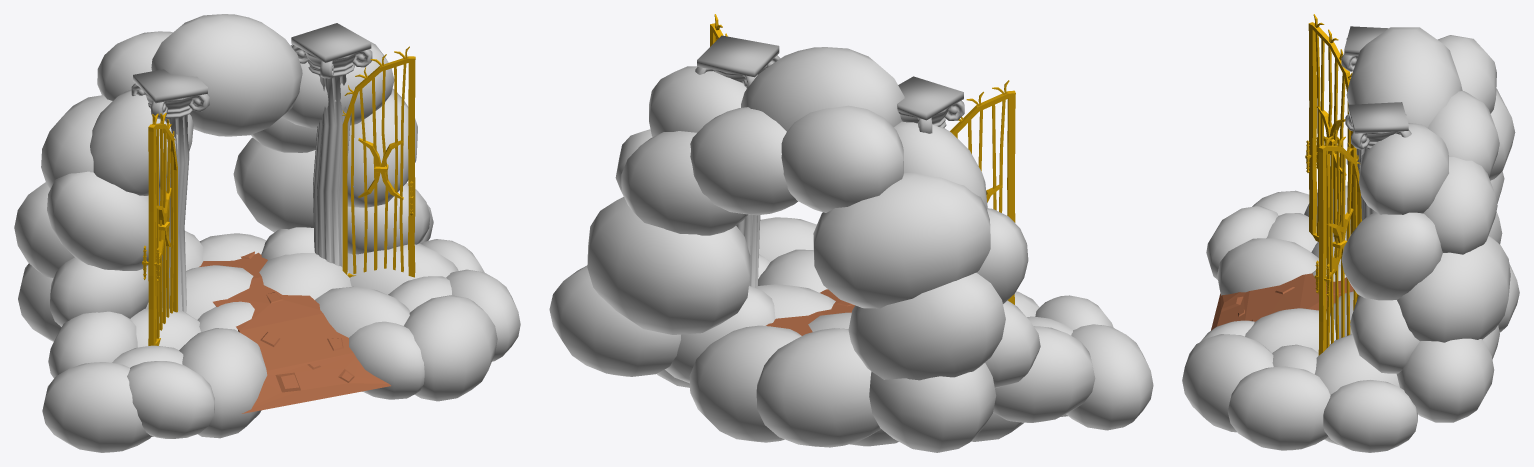
The model's file is Cloudportal.fbx.
3 views of the same model, side by side, from view 1: azimuth 30°, elevation 25°; view 2: azimuth 150°, elevation 25°; view 3: azimuth 270°, elevation 25° (orthographic). The views are drawn at different scales.
Parts seen in each view (by area): view 1: Sphere.166; view 2: Sphere.166; view 3: Sphere.166.
Boxes of the visible parts, box(x1,y1,x2,y2) form: Sphere.166: box(14, 14, 520, 452); Sphere.166: box(549, 14, 1153, 452); Sphere.166: box(1182, 14, 1519, 452).
Bounding box in the file's own units: 1182 × 846 × 772.
